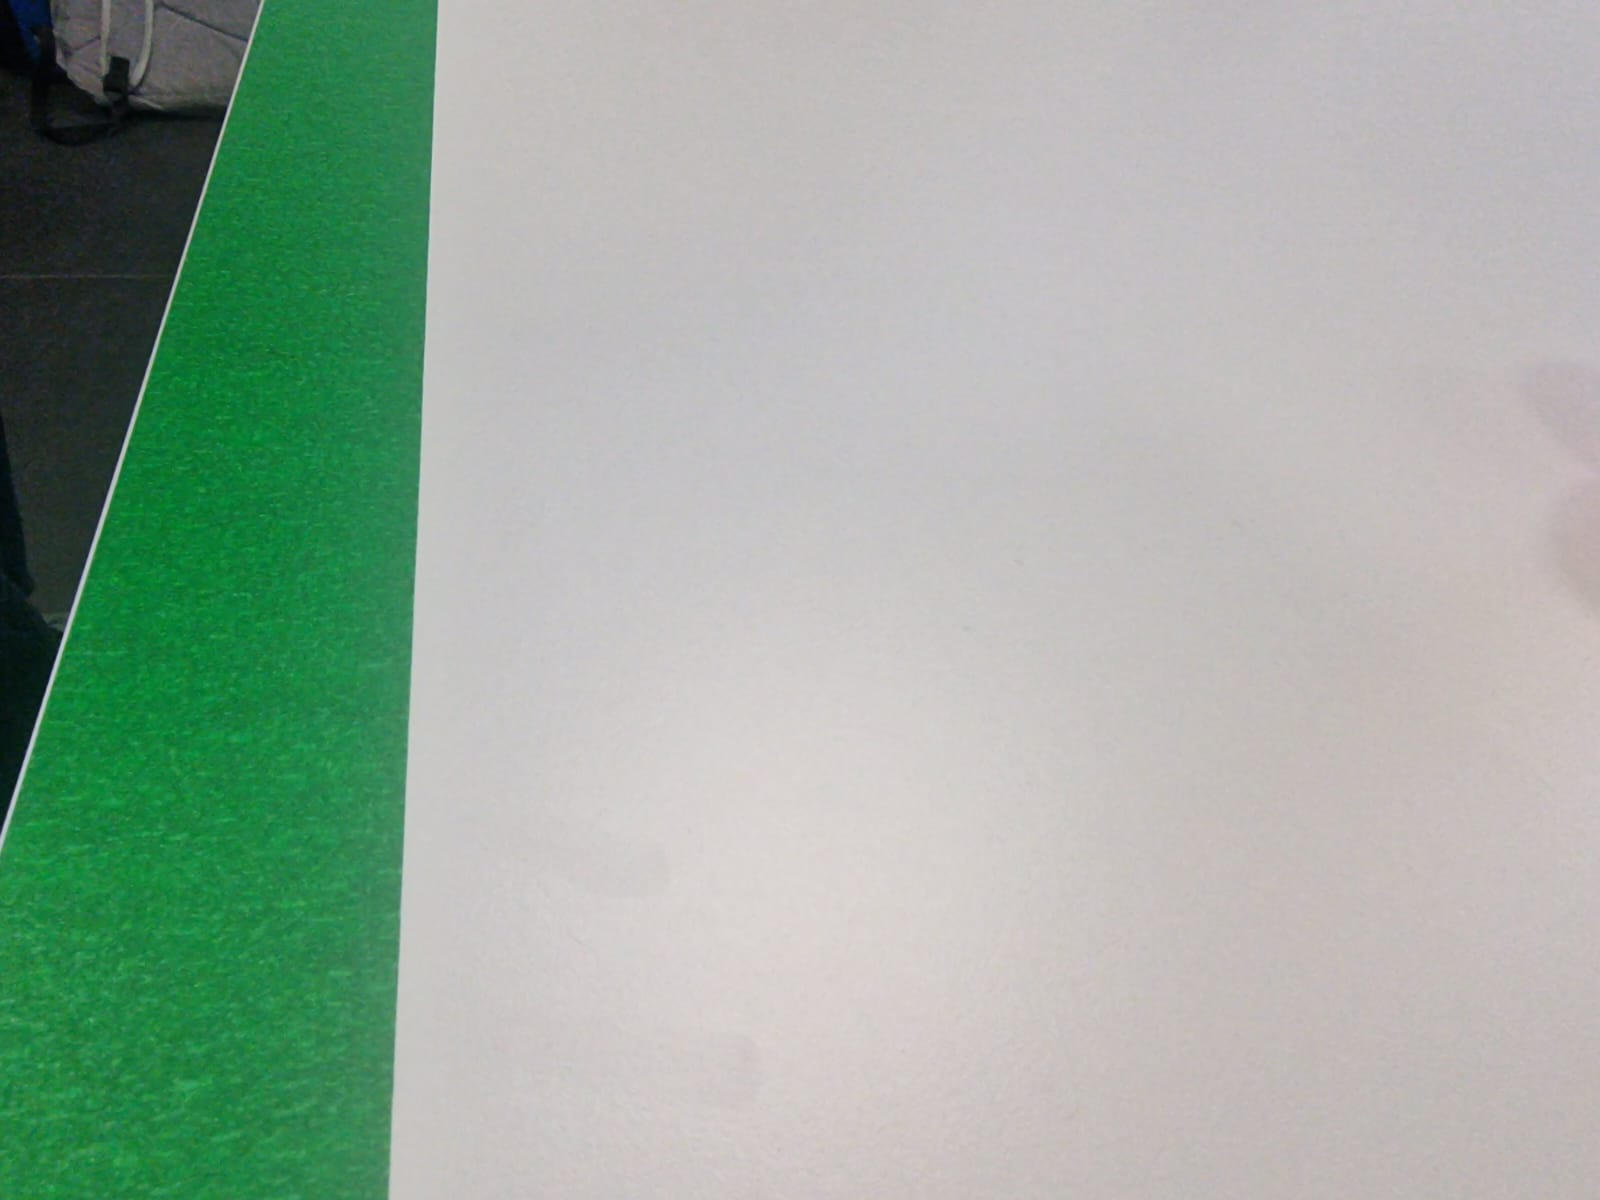linea_cerca: (0, 4, 437, 1200)
